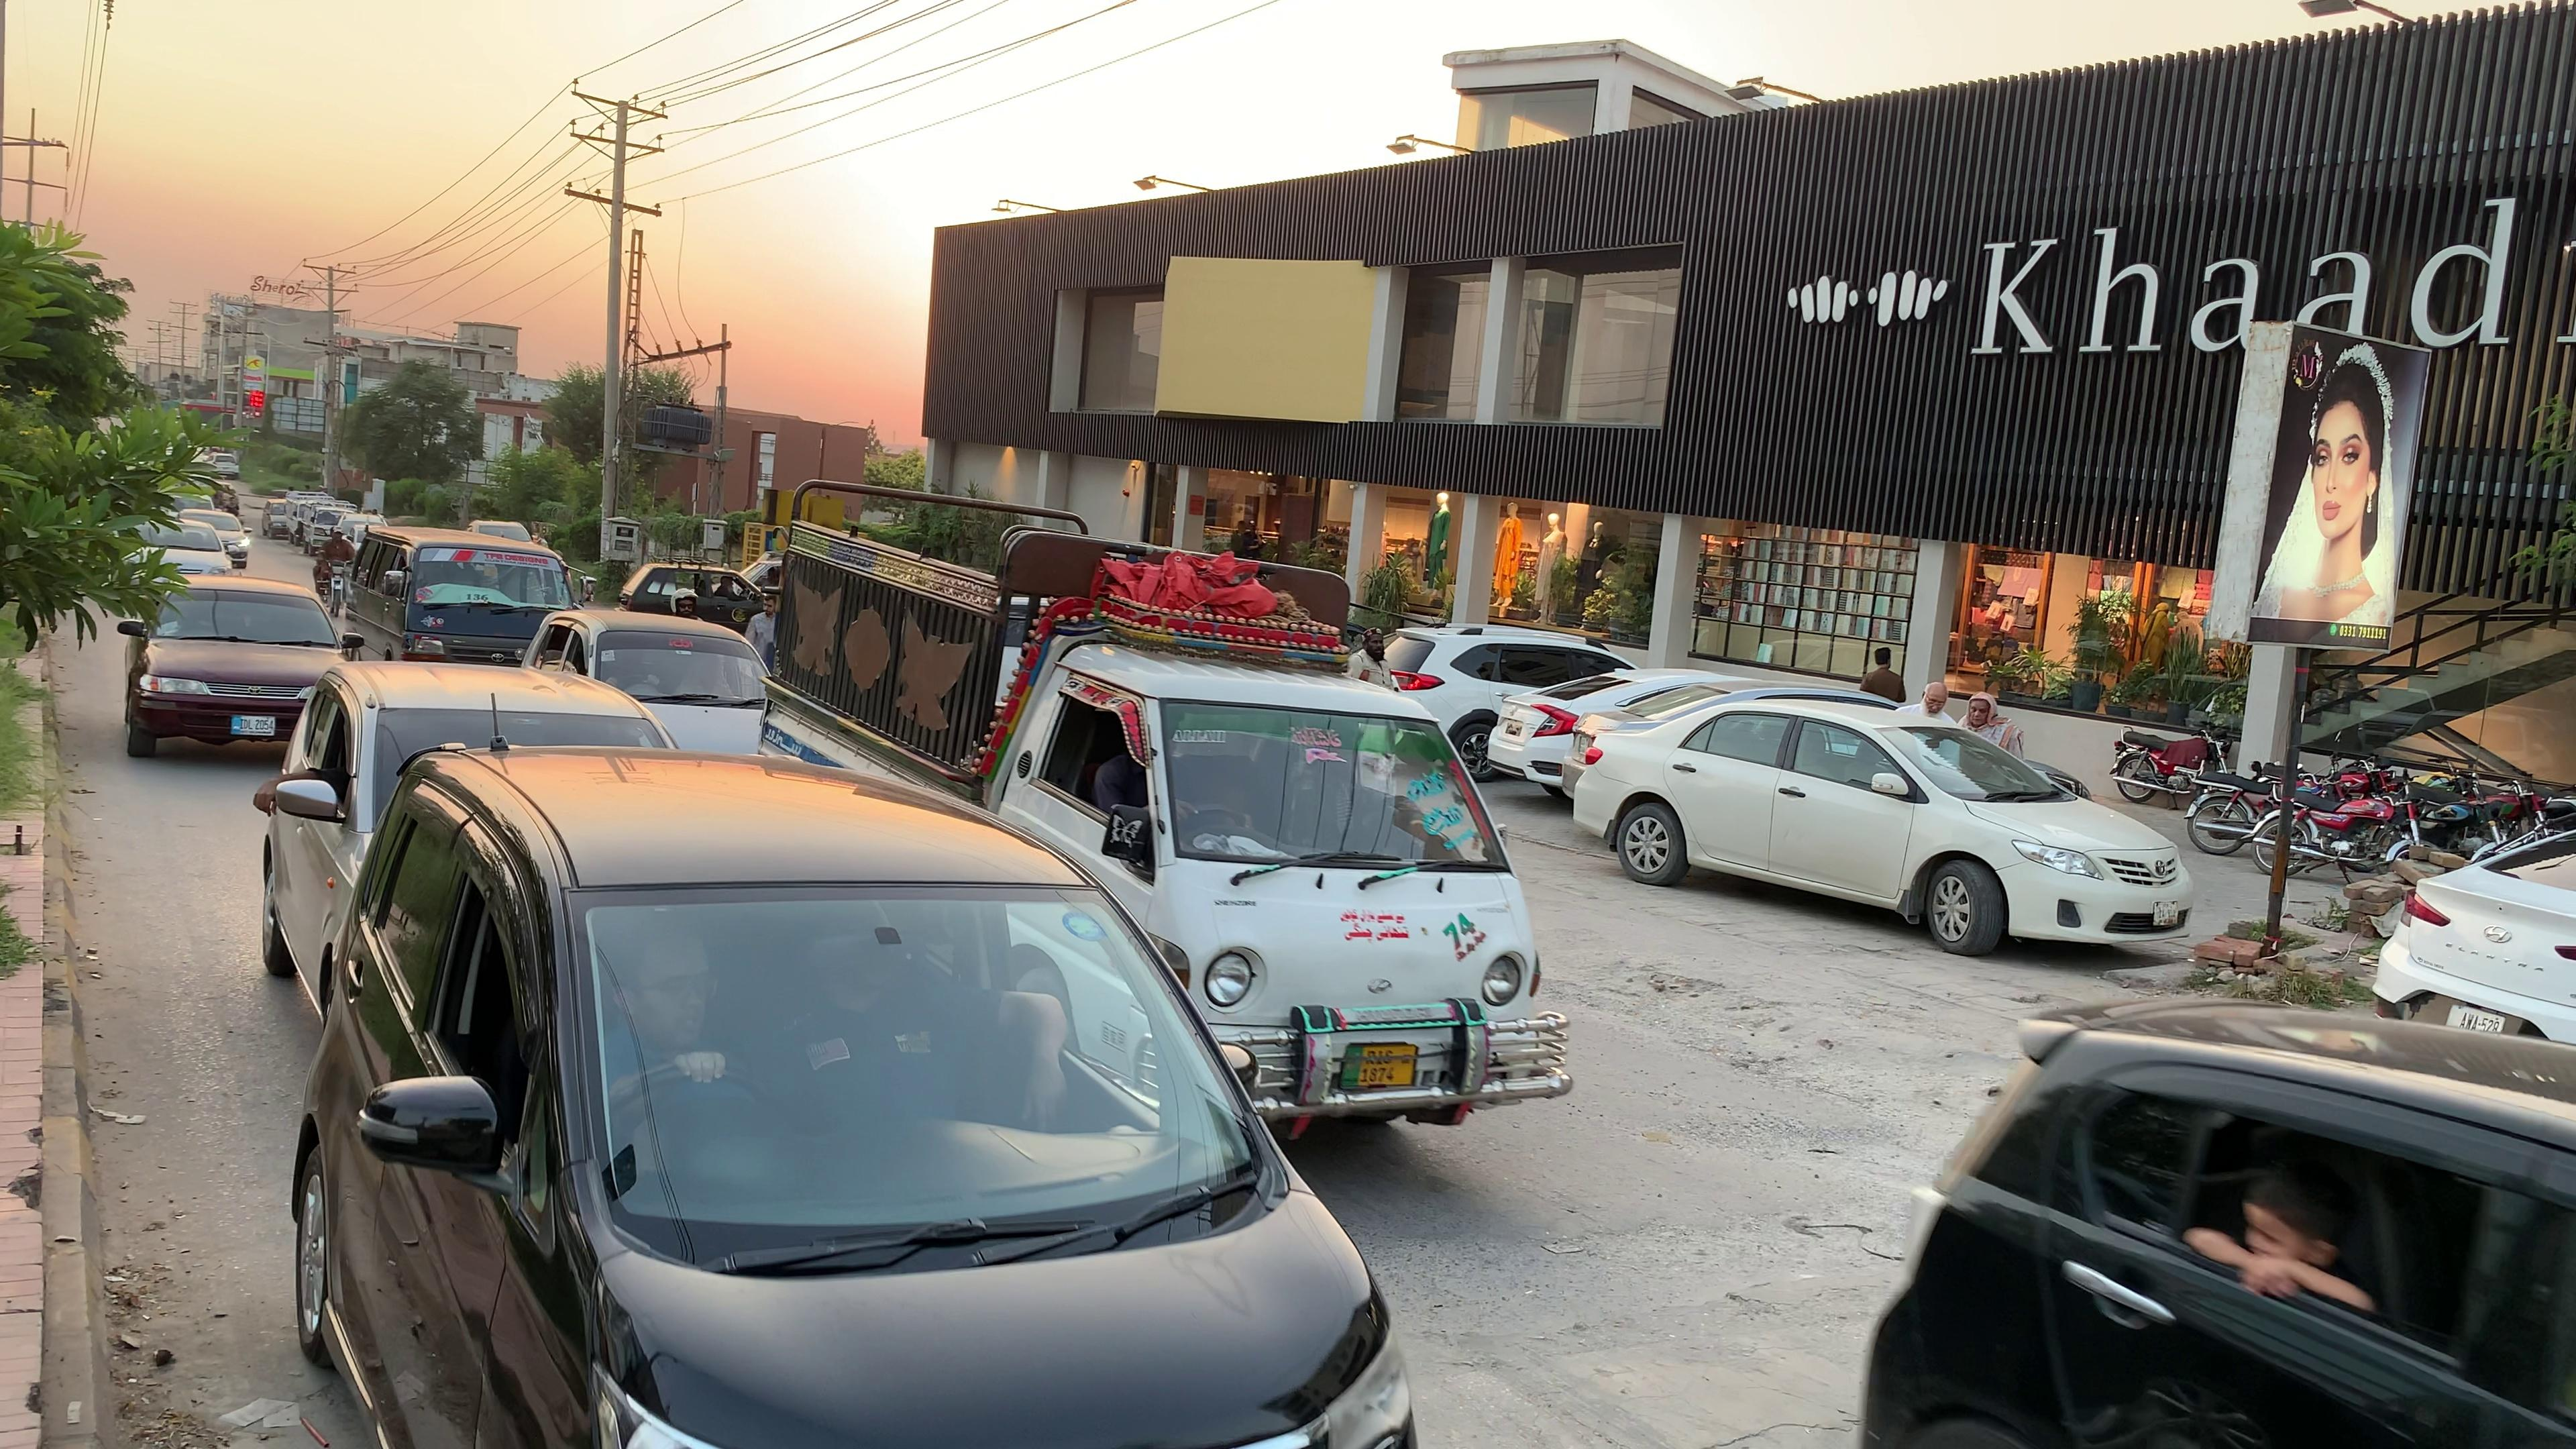windshield: (547, 865, 1306, 1261), (1141, 678, 1516, 899)
